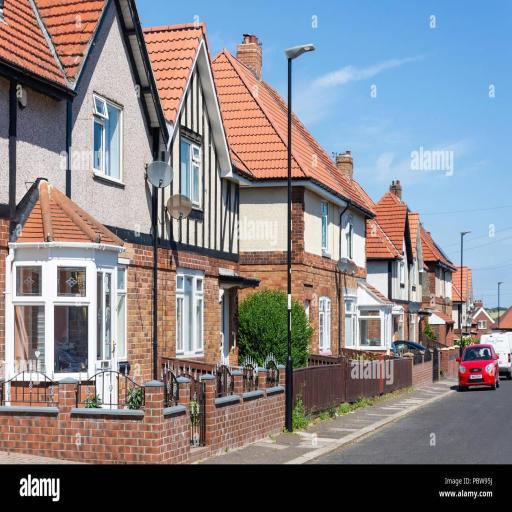door: (92, 267, 125, 412)
